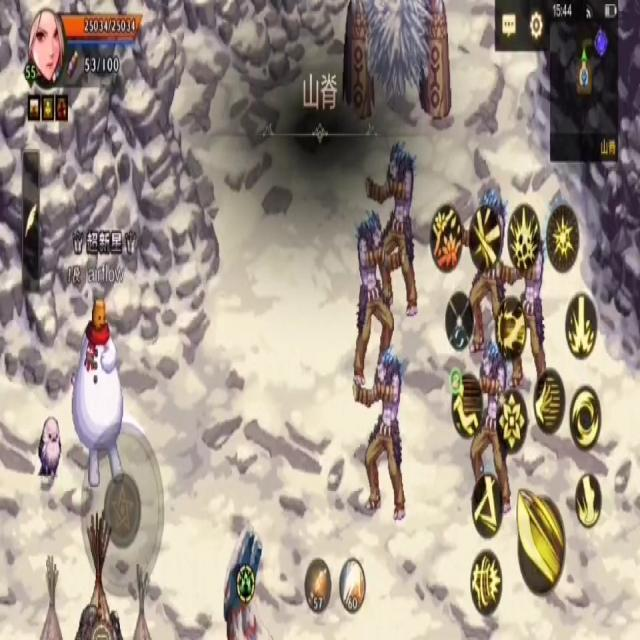player: (75, 294, 129, 490)
